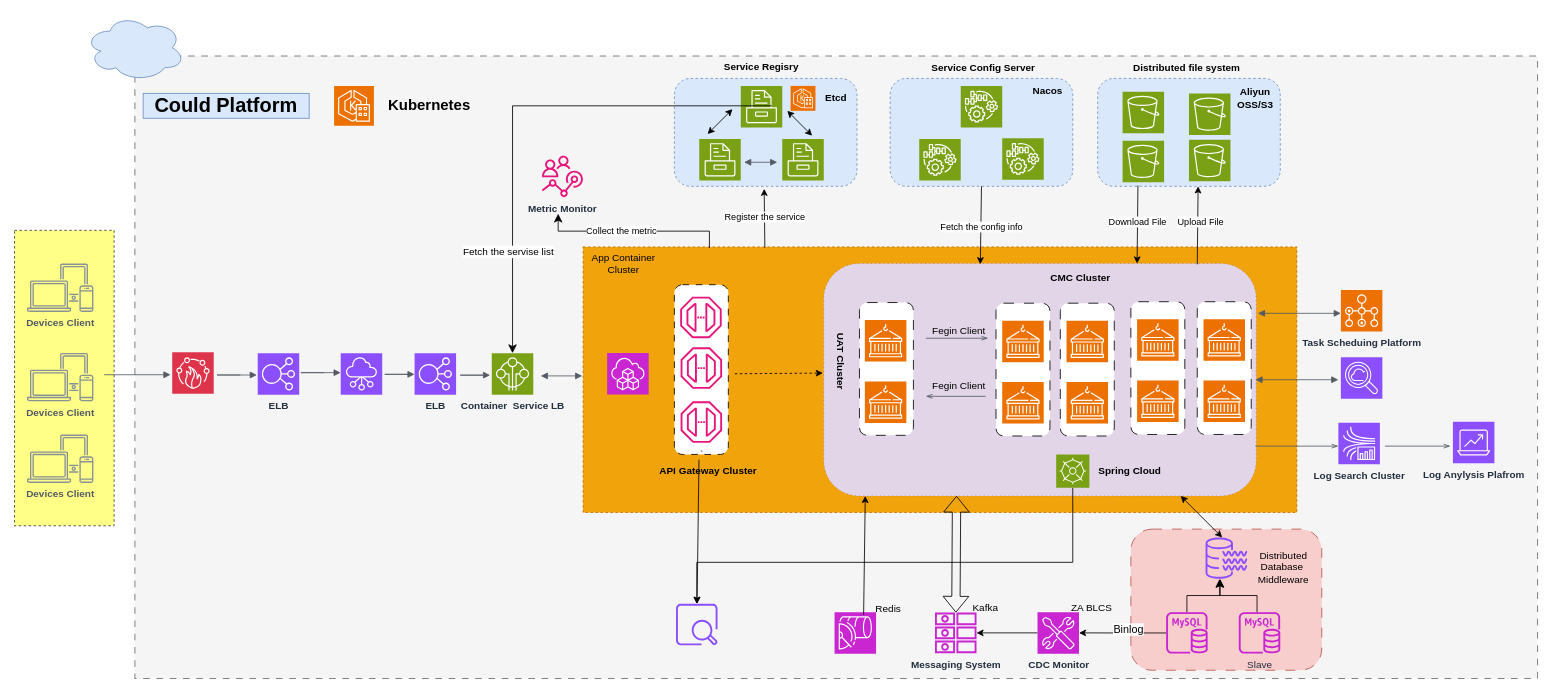
The diagram is 1552 pixels wide and 693 high, and some of its shapes have lost their labels. The centre of each missing label's shape, as x and y in pixels:
"Business Search Cluster" belongs at (1361,377).
"Cache System" belongs at (855,632).
"Distubuting Tracing" belongs at (696,624).
"DMDS" belongs at (1226,558).
"Front End Service" belongs at (627,373).
"Master" belongs at (1186,632).
"Network Firewall" belongs at (192,373).
"Nginx" belongs at (361,373).
